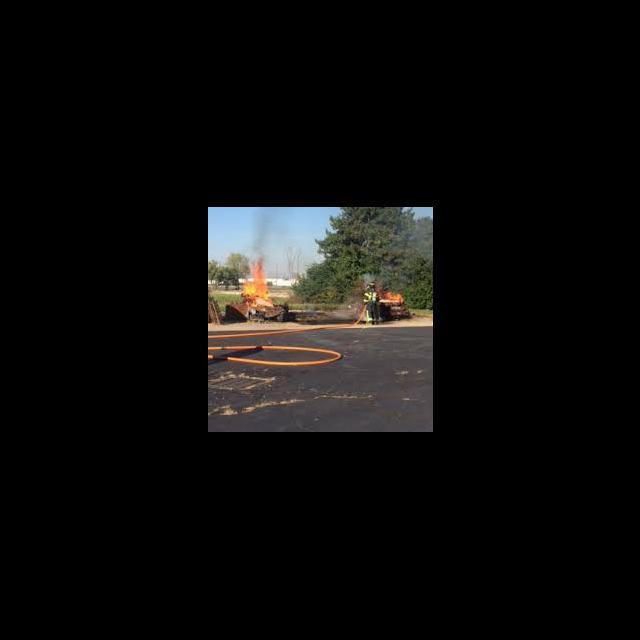Fire: (239, 254, 272, 300), (380, 290, 404, 304)
Smoke: (386, 210, 432, 284), (250, 216, 276, 252)
